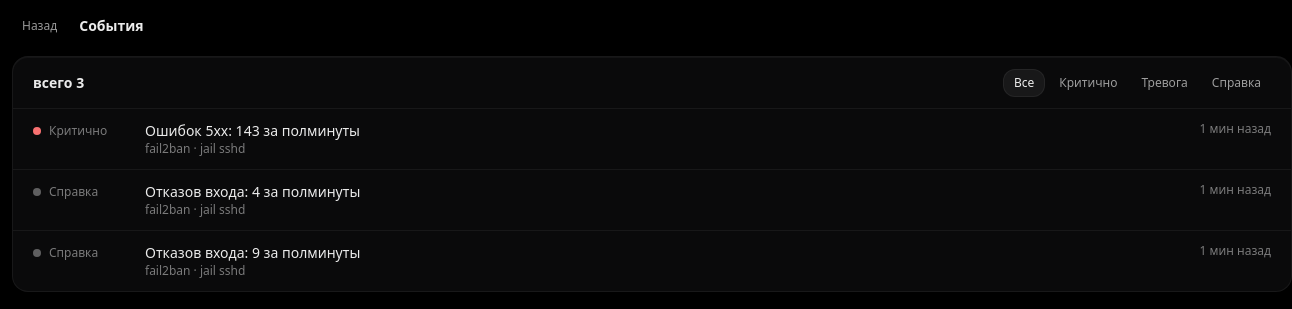
экран ленты событий › счётчик замечает фильтр
The image size is (1292, 309).
Expected: the text "всего 3" is shown, [33,72,84,92]
Step 1. Click the button "Справка" → (1236, 82), box [1202,68,1271,96]
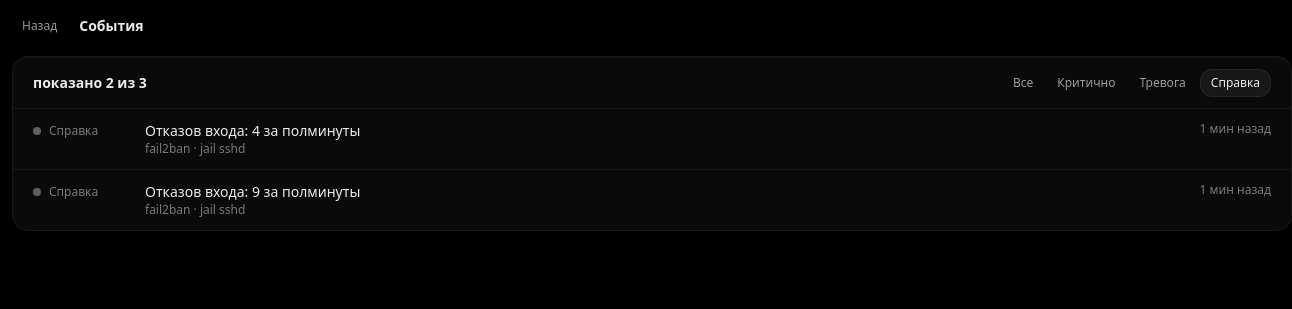
Result: the text "показано 2 из 3" is shown at [33,72,147,92]
Result: the text "всего 3" is gone
